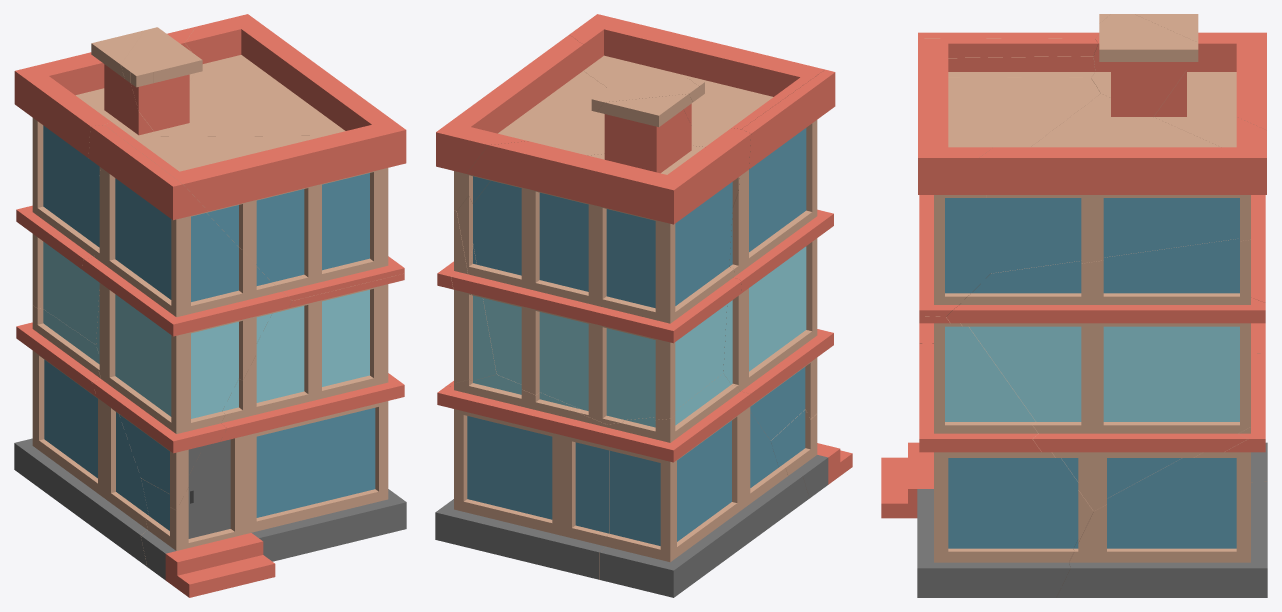
The model's file is House 1.7 Fractured.fbx.
3 renders of one model, left to right at view 1: azimuth 30°, elevation 25°; view 2: azimuth 150°, elevation 25°; view 3: azimuth 270°, elevation 25°, orthographic. The views are drawn at different scales.
Visible parts, largest first — view 1: House_Type1_7_Breaking_cell, House_Type1_7_Breaking_cell.005, House_Type1_7_Breaking_cell.002, House_Type1_7_Breaking_cell.003, House_Type1_7_Breaking_cell.004, House_Type1_7_Breaking_cell.001; view 2: House_Type1_7_Breaking_cell.003, House_Type1_7_Breaking_cell.001, House_Type1_7_Breaking_cell.005, House_Type1_7_Breaking_cell.007, House_Type1_7_Breaking_cell.004, House_Type1_7_Breaking_cell.002, House_Type1_7_Breaking_cell.006, House_Type1_7_Breaking_cell; view 3: House_Type1_7_Breaking_cell.006, House_Type1_7_Breaking_cell.004, House_Type1_7_Breaking_cell, House_Type1_7_Breaking_cell.007, House_Type1_7_Breaking_cell.002, House_Type1_7_Breaking_cell.003, House_Type1_7_Breaking_cell.005, House_Type1_7_Breaking_cell.001.
Part boxes in pixels (x1,y1,x2,y2): House_Type1_7_Breaking_cell: (140, 273, 406, 597); House_Type1_7_Breaking_cell.005: (82, 125, 291, 510); House_Type1_7_Breaking_cell.002: (105, 72, 406, 300); House_Type1_7_Breaking_cell.003: (14, 26, 195, 344); House_Type1_7_Breaking_cell.004: (121, 14, 377, 136); House_Type1_7_Breaking_cell.001: (14, 305, 148, 566); House_Type1_7_Breaking_cell.003: (451, 94, 750, 424); House_Type1_7_Breaking_cell.001: (600, 373, 809, 597); House_Type1_7_Breaking_cell.005: (723, 69, 835, 440); House_Type1_7_Breaking_cell.007: (435, 374, 609, 579); House_Type1_7_Breaking_cell.004: (436, 35, 699, 210); House_Type1_7_Breaking_cell.002: (569, 14, 824, 146); House_Type1_7_Breaking_cell.006: (437, 210, 496, 386); House_Type1_7_Breaking_cell: (770, 409, 852, 498); House_Type1_7_Breaking_cell.006: (946, 238, 1265, 510); House_Type1_7_Breaking_cell.004: (979, 14, 1266, 273); House_Type1_7_Breaking_cell: (881, 316, 1093, 597); House_Type1_7_Breaking_cell.007: (1056, 353, 1267, 597); House_Type1_7_Breaking_cell.002: (918, 14, 1110, 316); House_Type1_7_Breaking_cell.003: (1091, 14, 1266, 302); House_Type1_7_Breaking_cell.005: (918, 32, 1099, 343); House_Type1_7_Breaking_cell.001: (1251, 323, 1267, 482).
Bounding box in the file's own units: 364 × 653 × 473.
